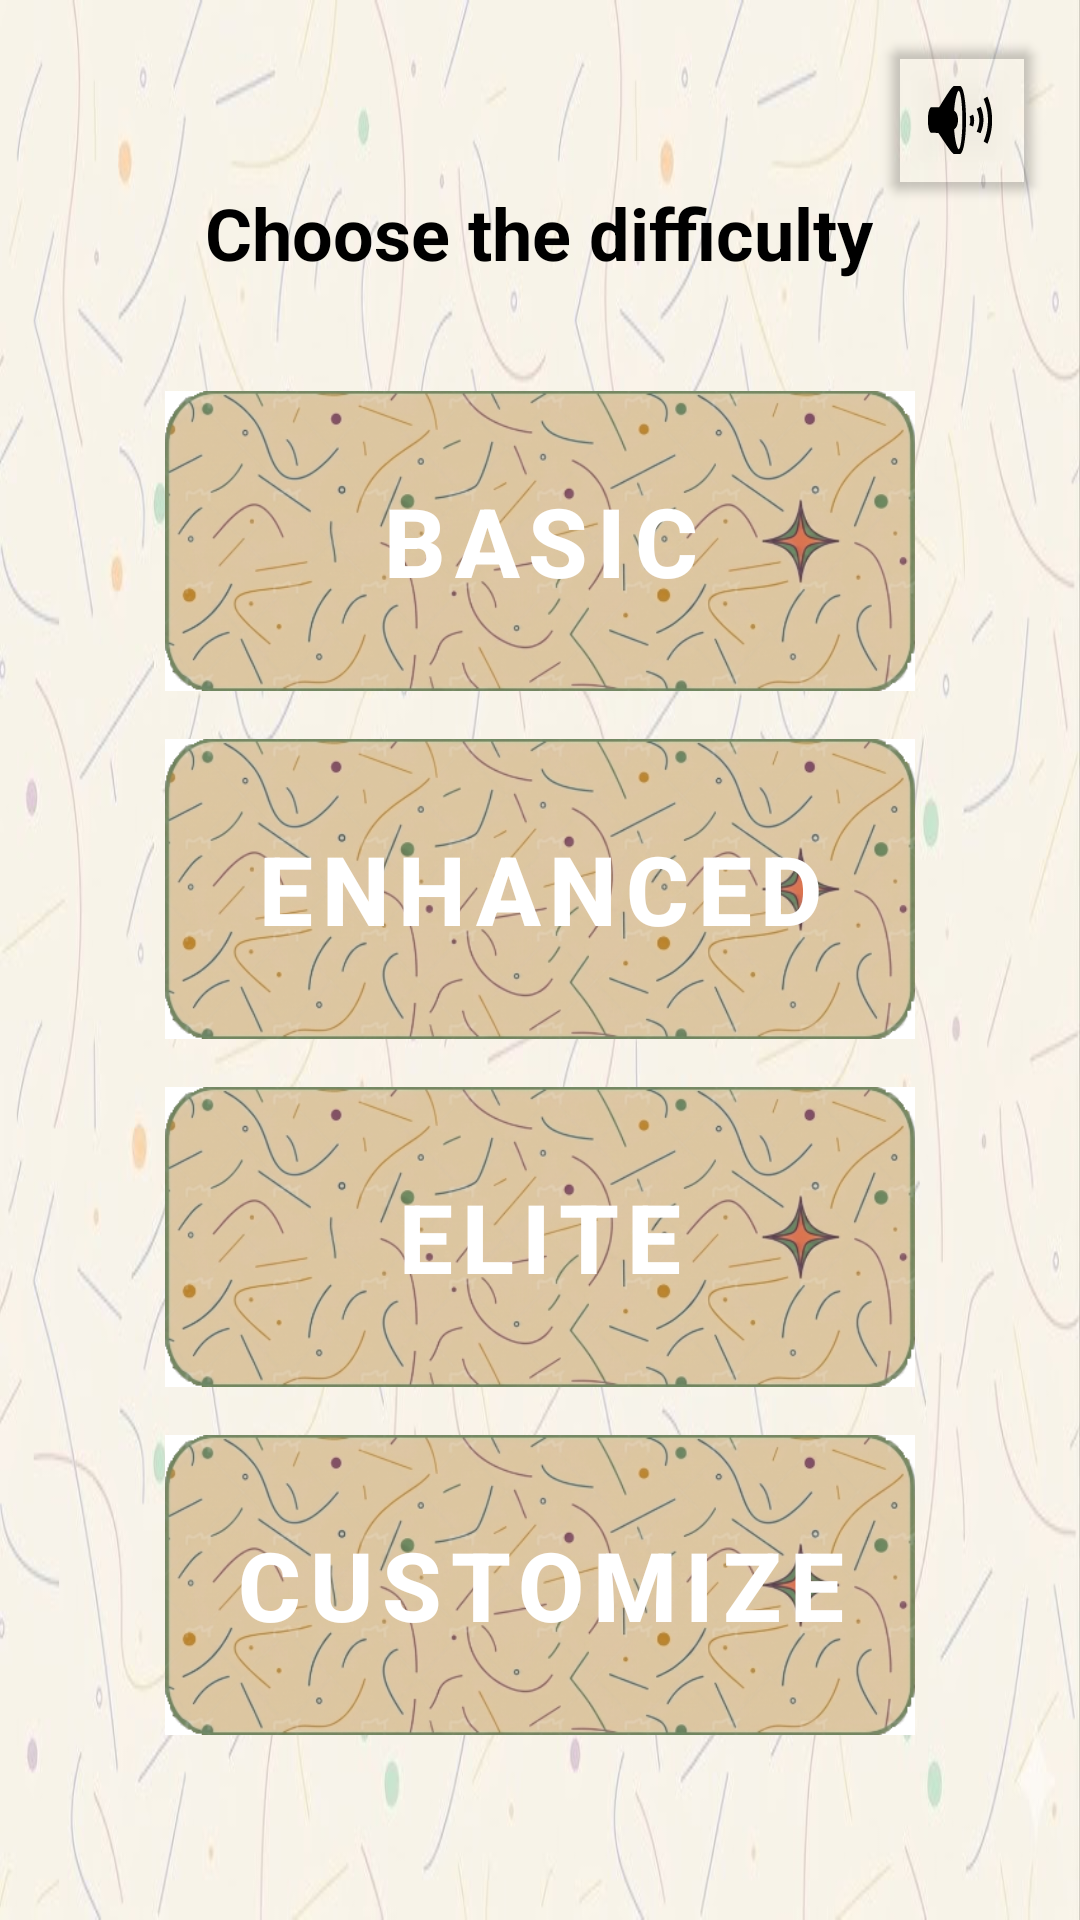

Point at icon controls on the screen. Image size 1080×1920, points as [x,y].
lock silent mode off: [960,120]
